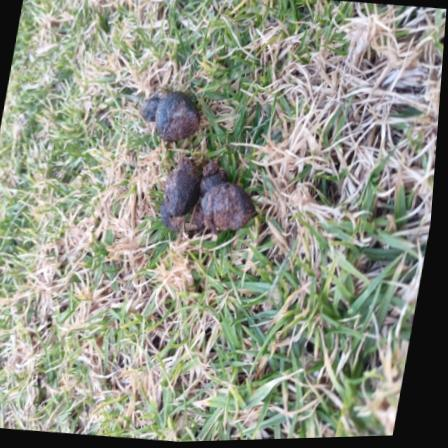dog-poop: (102, 65, 276, 261)
